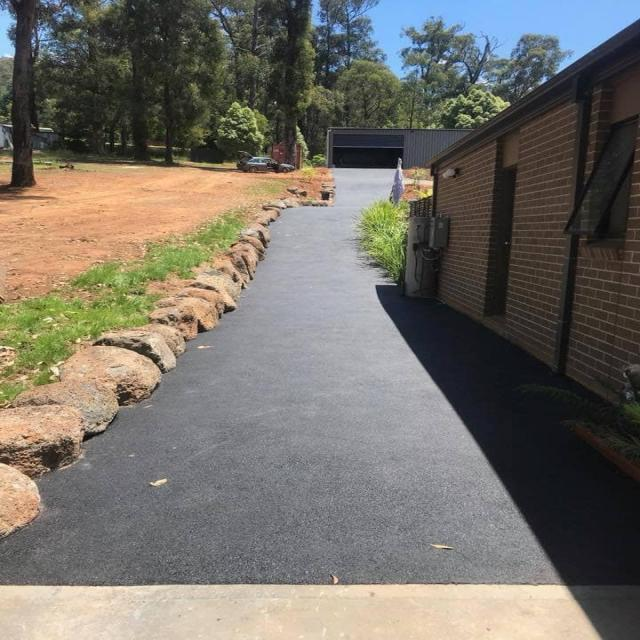asphalt: (0, 171, 639, 584)
grass: (0, 212, 244, 405), (356, 199, 409, 282)
red-sand: (0, 163, 290, 302)
stone: (0, 205, 281, 537)
